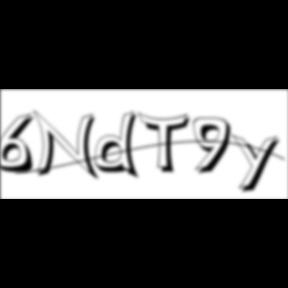6: (0, 112, 40, 176)
9: (192, 117, 238, 177)
N: (33, 109, 103, 183)
T: (138, 112, 196, 176)
d: (95, 110, 145, 182)
y: (232, 132, 286, 196)
